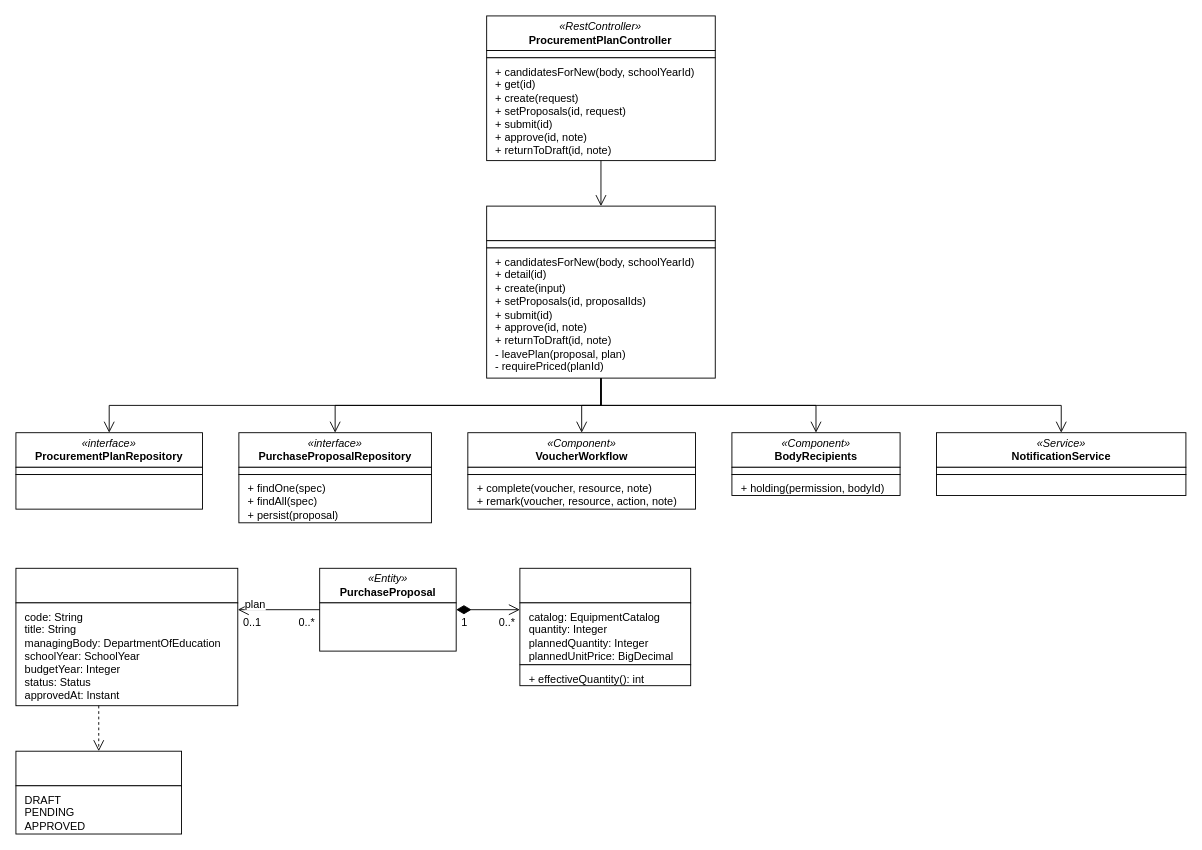
This 1202x850 diagram has some shape labels left out. Each missing label, with the centre of its shape:
"+ findOne(spec) + save(plan)" belongs at point (108, 491).
"+ notify(type, recipient, level, title, body, link)" belongs at point (1061, 484).
"budgetYear: Integer status: VoucherStatus plan: ProcurementPlan" belongs at point (387, 626).
"«Entity» ProcurementPlan" belongs at point (126, 585).
"«Entity» PurchaseProposalLine" belongs at point (605, 585).
"«enumeration» ProcurementPlan.Status" belongs at point (98, 768).
"«Service» ProcurementPlanService" belongs at point (600, 223).
